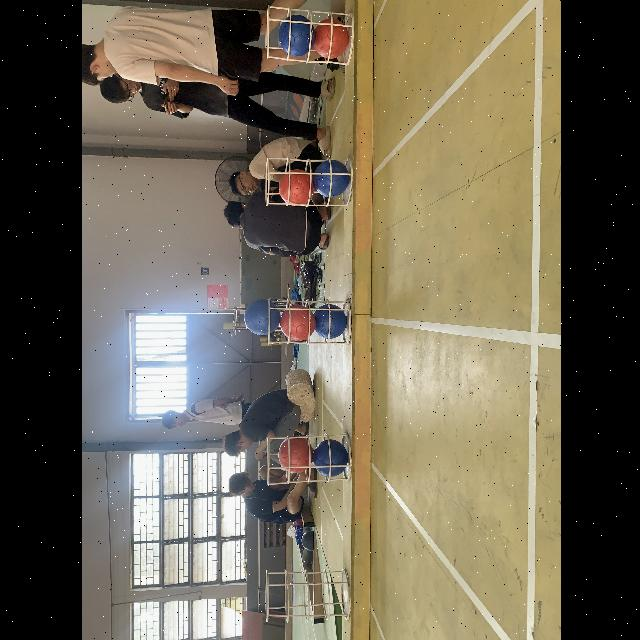B: (310, 438, 348, 478), (276, 14, 314, 54), (241, 299, 277, 337), (313, 162, 347, 198), (314, 303, 346, 337)
R: (277, 168, 315, 206), (314, 20, 348, 60), (280, 304, 314, 342), (278, 436, 312, 474)
